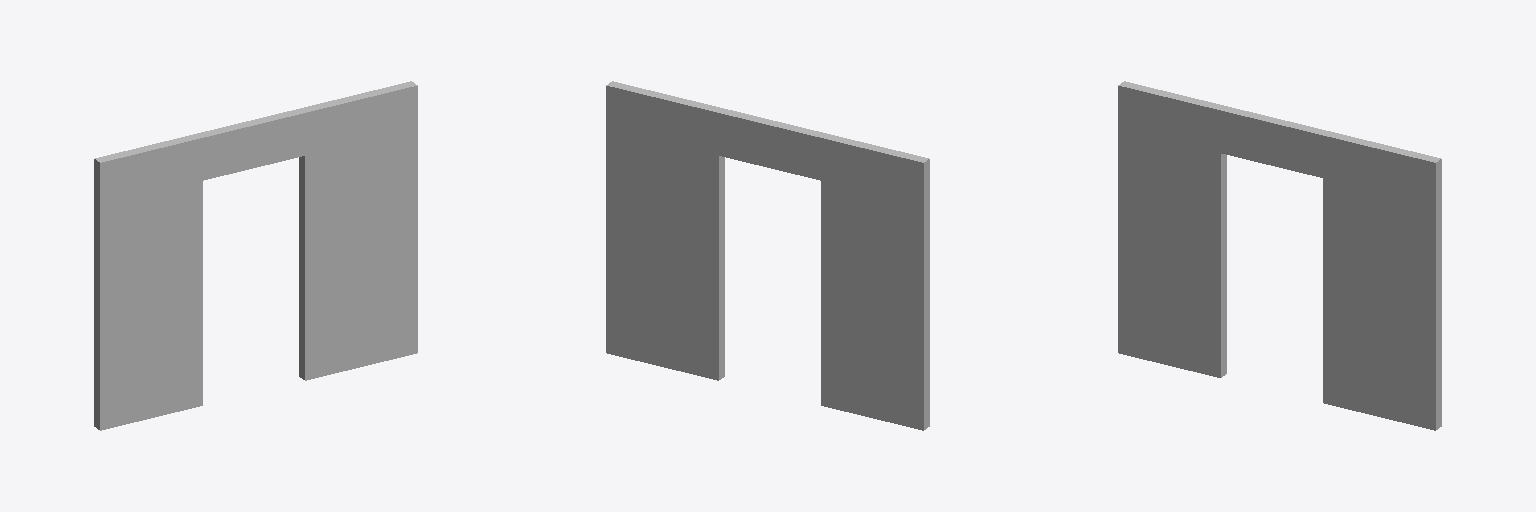
File: wall_10.obj
3 views of the same model, side by side, from view 1: azimuth 30°, elevation 25°; view 2: azimuth 150°, elevation 25°; view 3: azimuth 330°, elevation 25° (orthographic).
Parts seen in each view (by area): view 1: polySurface10 wall_4; view 2: polySurface10 wall_4; view 3: polySurface10 wall_4.
Boxes of the visible parts, x1=… form: polySurface10 wall_4: x1=94, y1=81, x2=417, y2=430; polySurface10 wall_4: x1=606, y1=81, x2=929, y2=430; polySurface10 wall_4: x1=1118, y1=81, x2=1441, y2=430.
Size of the model in its own units: 3.1 by 2.5 by 0.1.